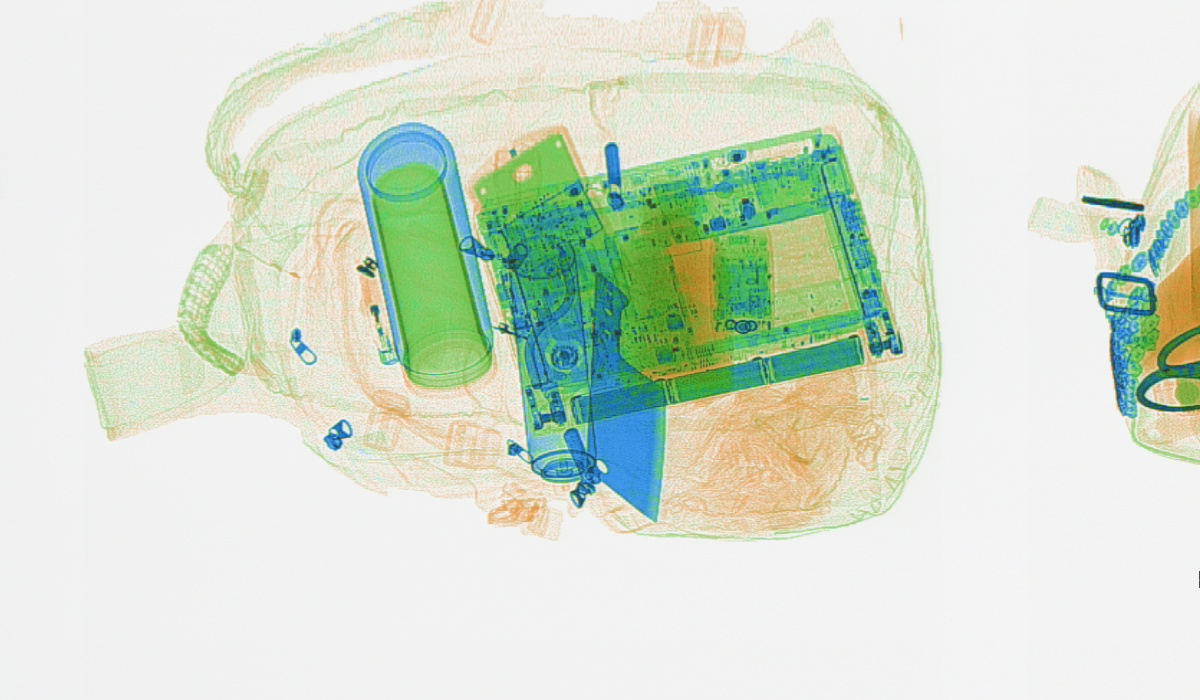knife: (577, 265, 674, 525)
lighter: (351, 253, 401, 367)
pressure: (504, 232, 598, 482)
